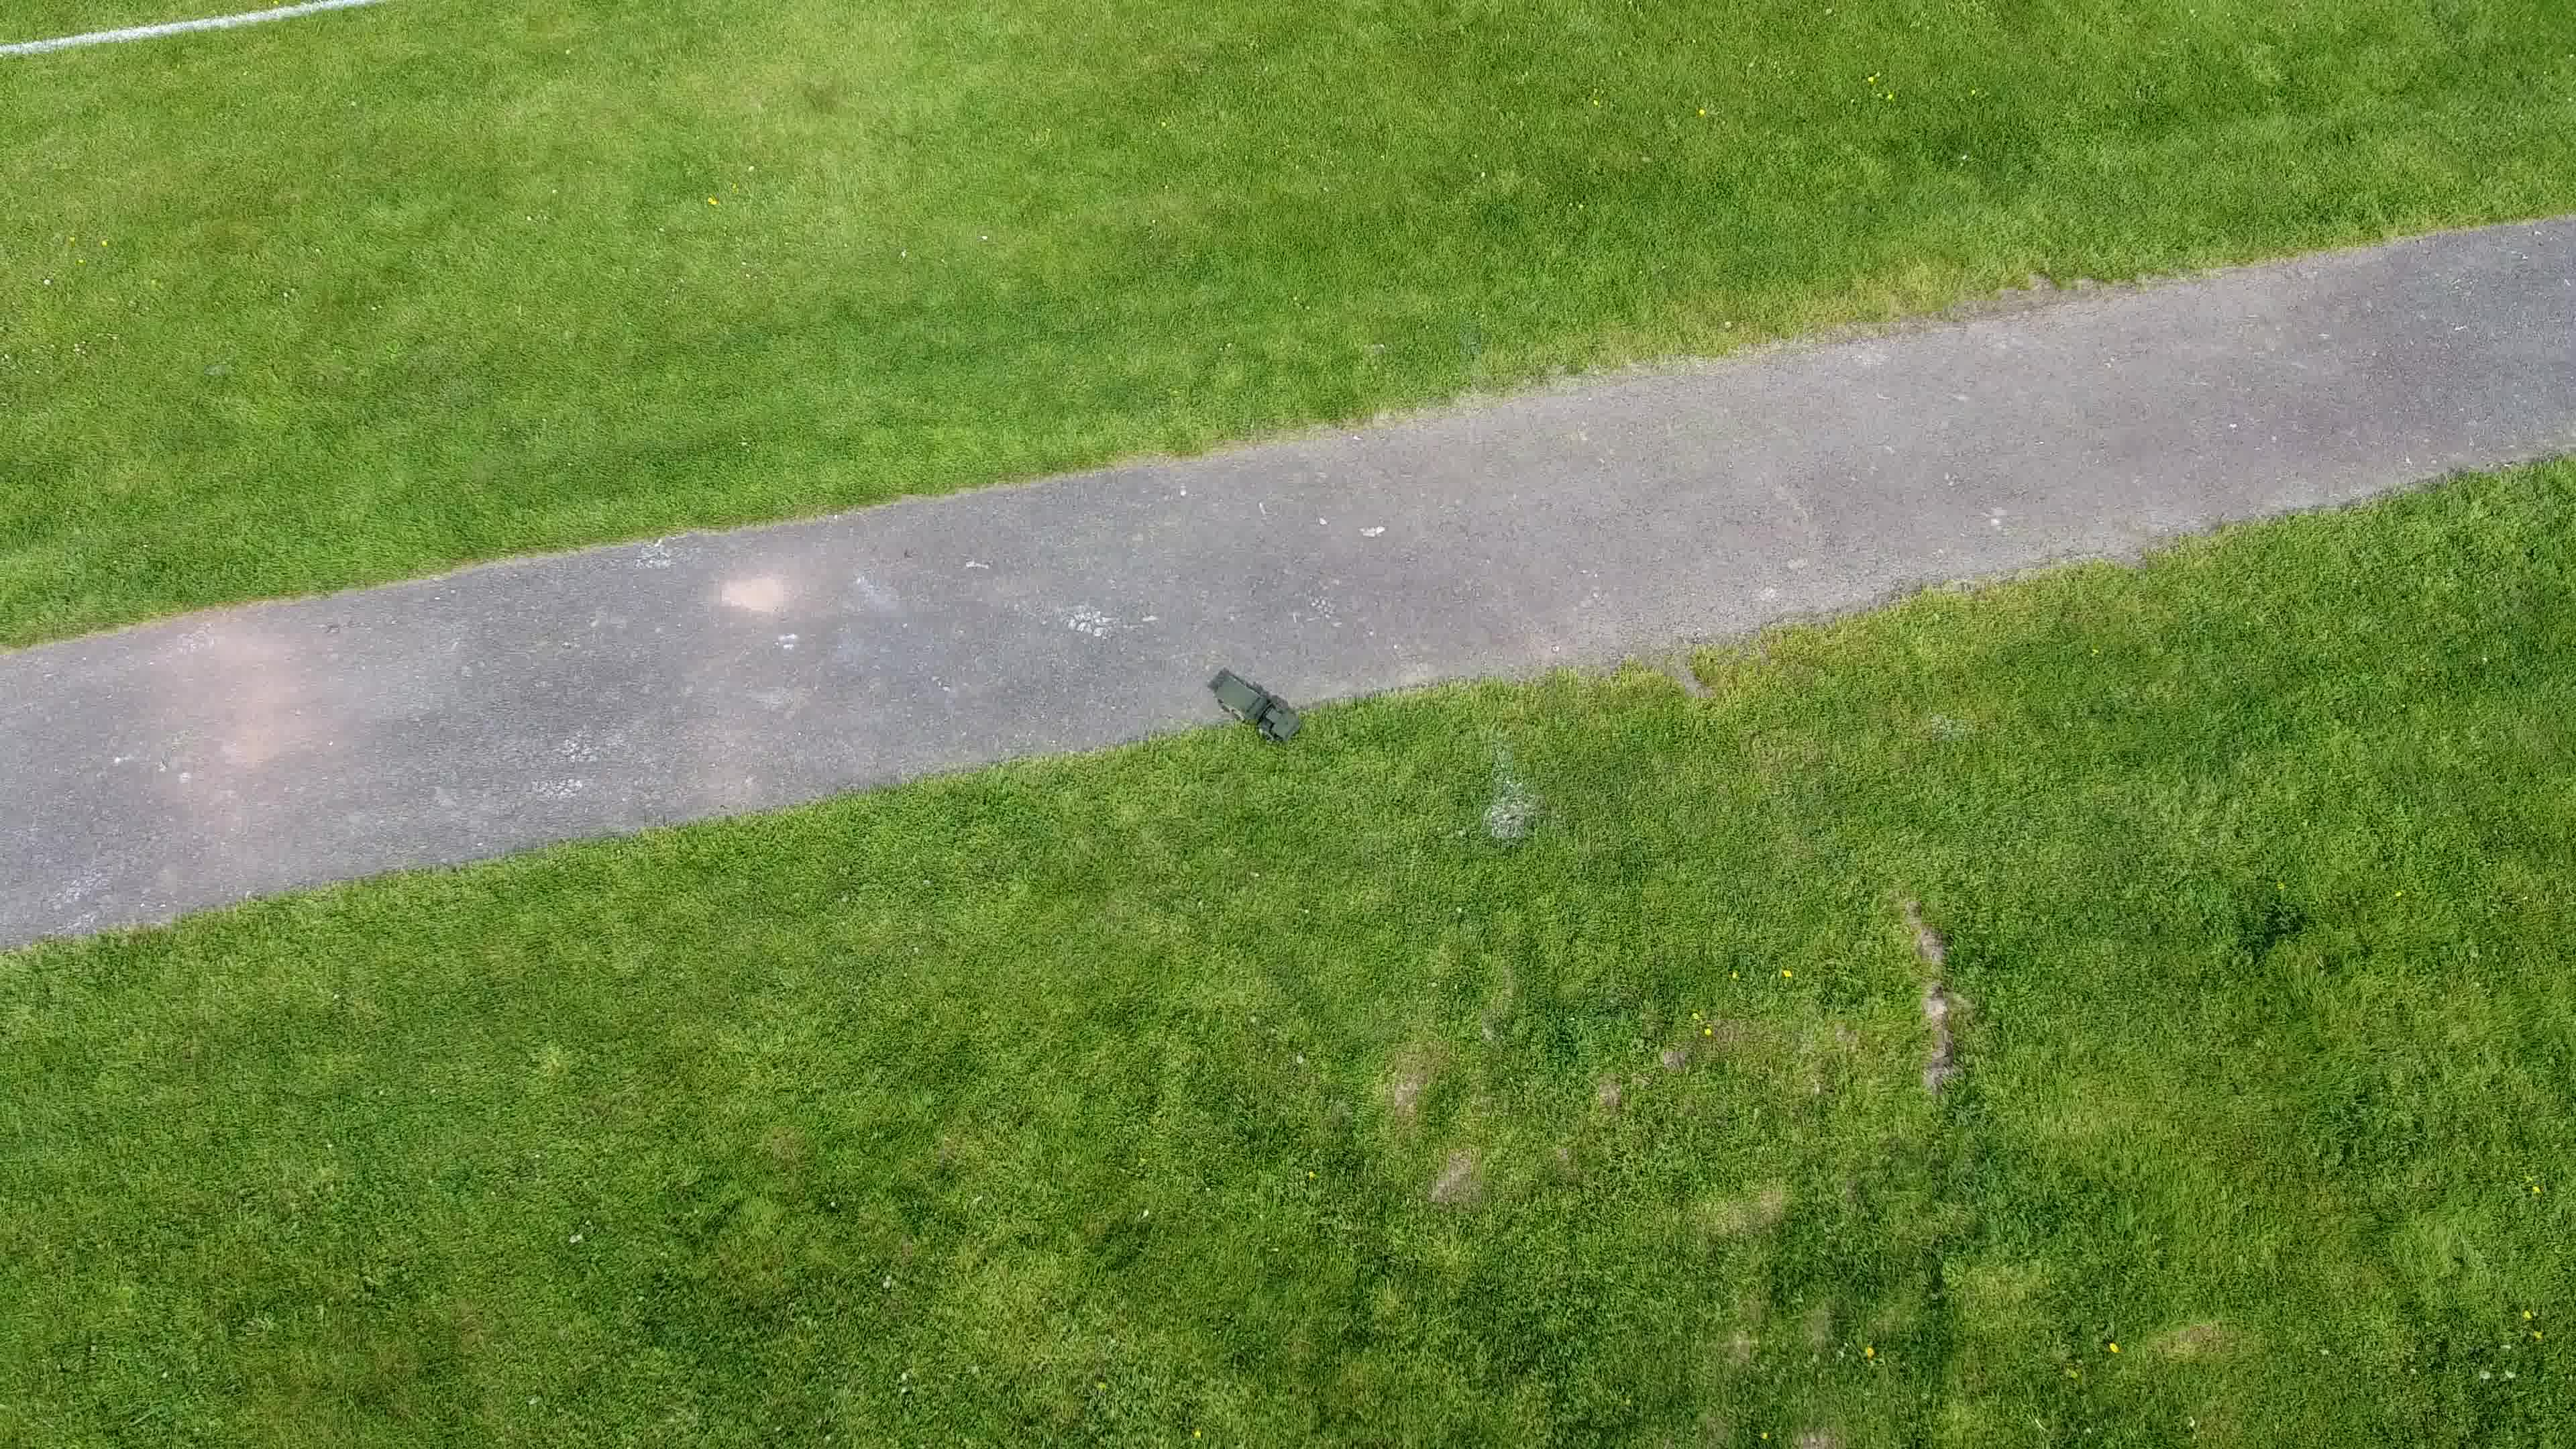transporter9: (1214, 672, 1307, 750)
